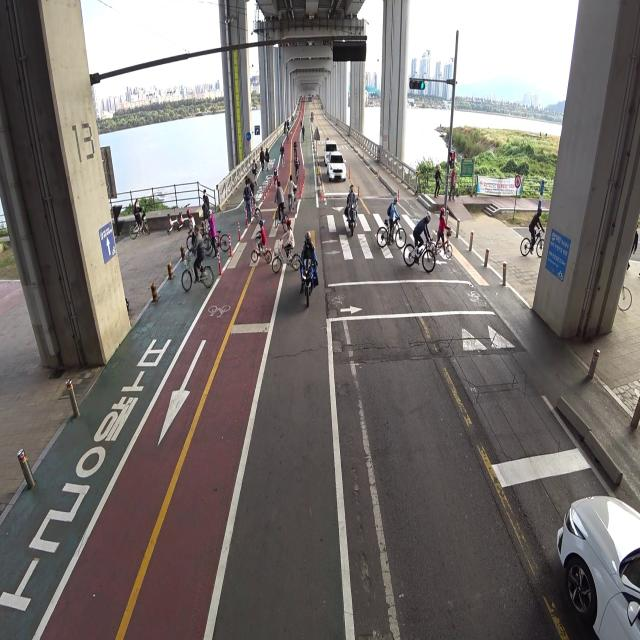Car: (537, 451, 640, 640), (326, 148, 348, 186), (325, 134, 338, 161)
Motorcycle: (299, 229, 319, 308), (344, 180, 359, 237)
